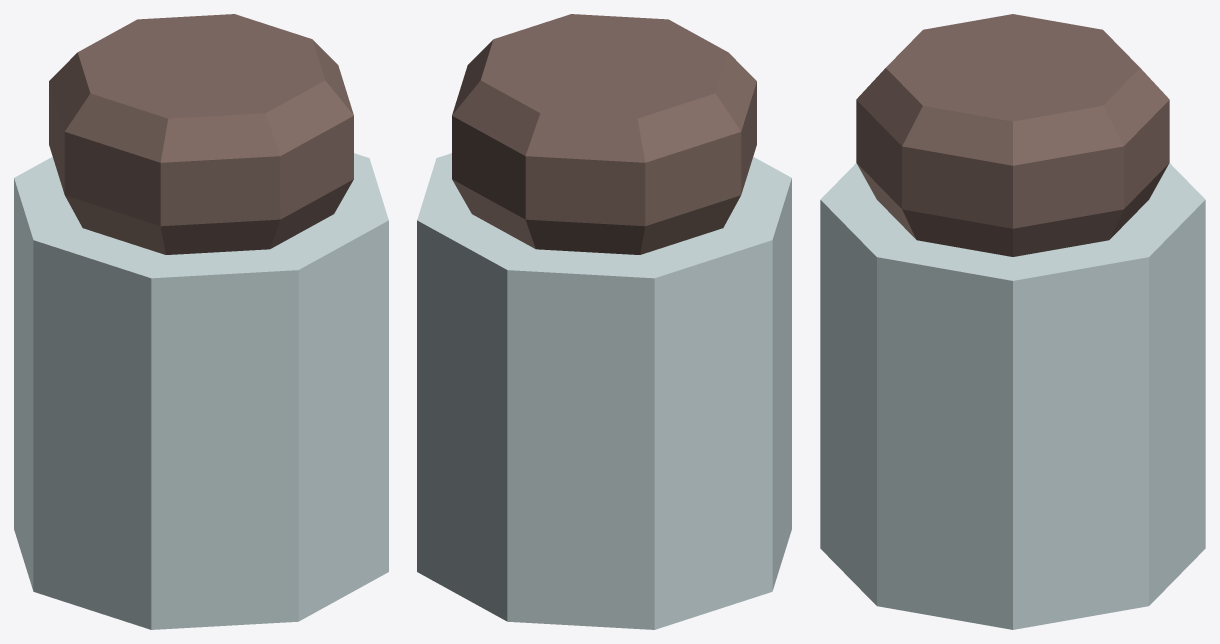
The model's file is hucu.fbx.
The picture shows the model from 3 angles, left to right: view 1: azimuth 30°, elevation 25°; view 2: azimuth 150°, elevation 25°; view 3: azimuth 270°, elevation 25°; orthographic projection.
Visible parts, largest first — view 1: Cylinder, Cylinder.001; view 2: Cylinder, Cylinder.001; view 3: Cylinder, Cylinder.001.
Part boxes in pixels (box(x1,y1,x2,y2)): Cylinder: box(14, 153, 388, 629); Cylinder.001: box(49, 14, 353, 254); Cylinder: box(417, 153, 791, 629); Cylinder.001: box(452, 14, 756, 254); Cylinder: box(820, 163, 1205, 629); Cylinder.001: box(856, 14, 1169, 256).
Bounding box in the file's own units: 39.52 × 54.45 × 39.52.
